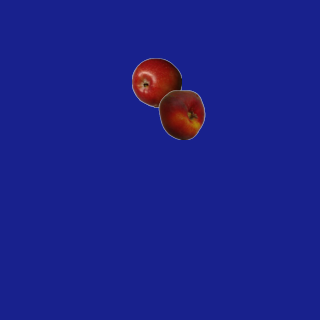Apple Braeburn: (131, 57, 181, 107)
Nectarine Flat: (156, 89, 206, 139)
